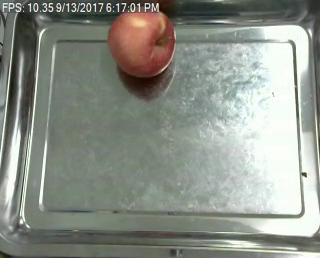Apple: (108, 3, 175, 78)
